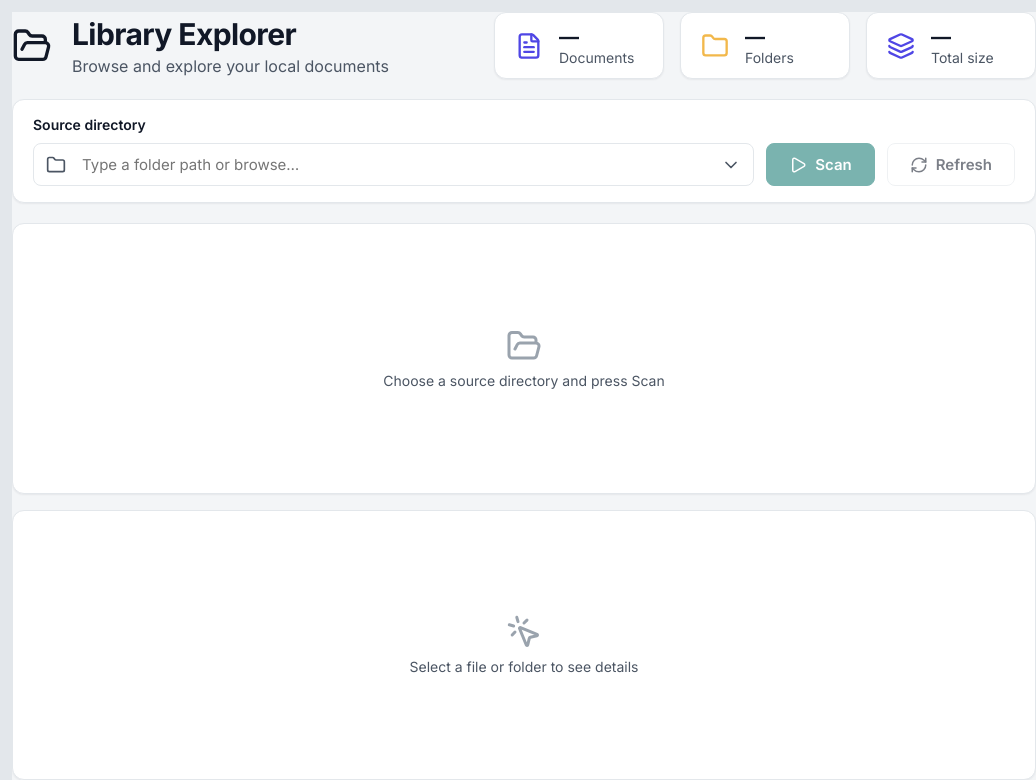
Scenario: LibraryPage search › clears the search
Type "C:/Docs/Knowledge" into the field labelled "Source directory" at (394, 164), box top-left (78, 144), bottom-right (709, 185)
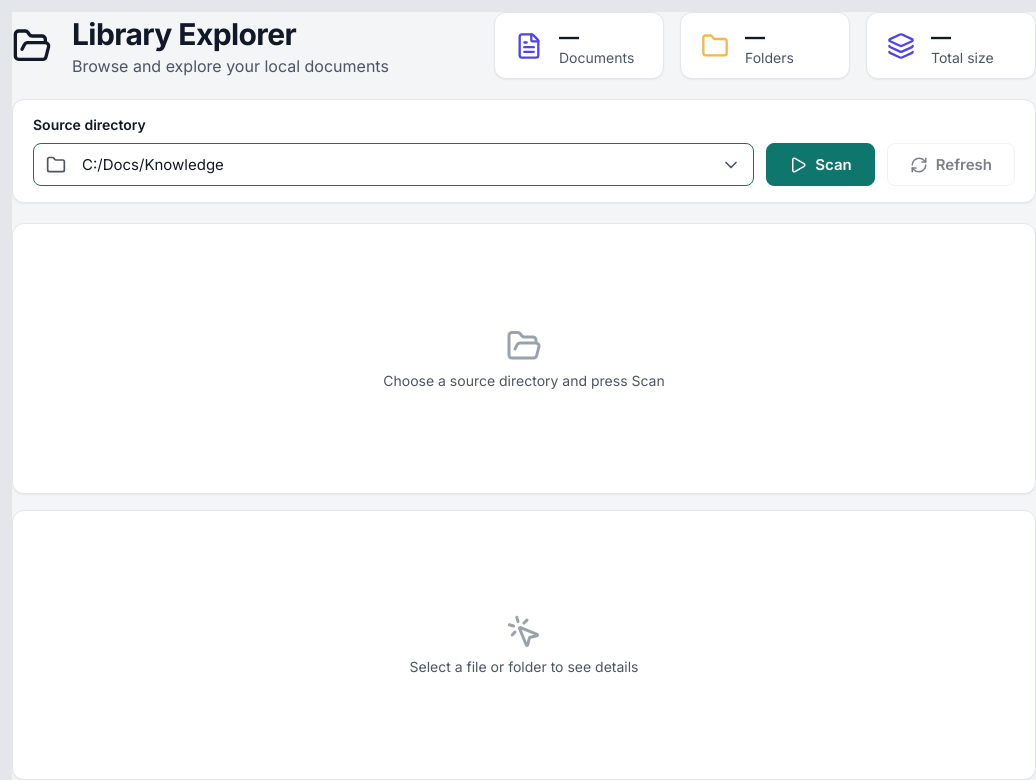
Click the button "Scan" at (820, 164), box top-left (766, 143), bottom-right (875, 186)
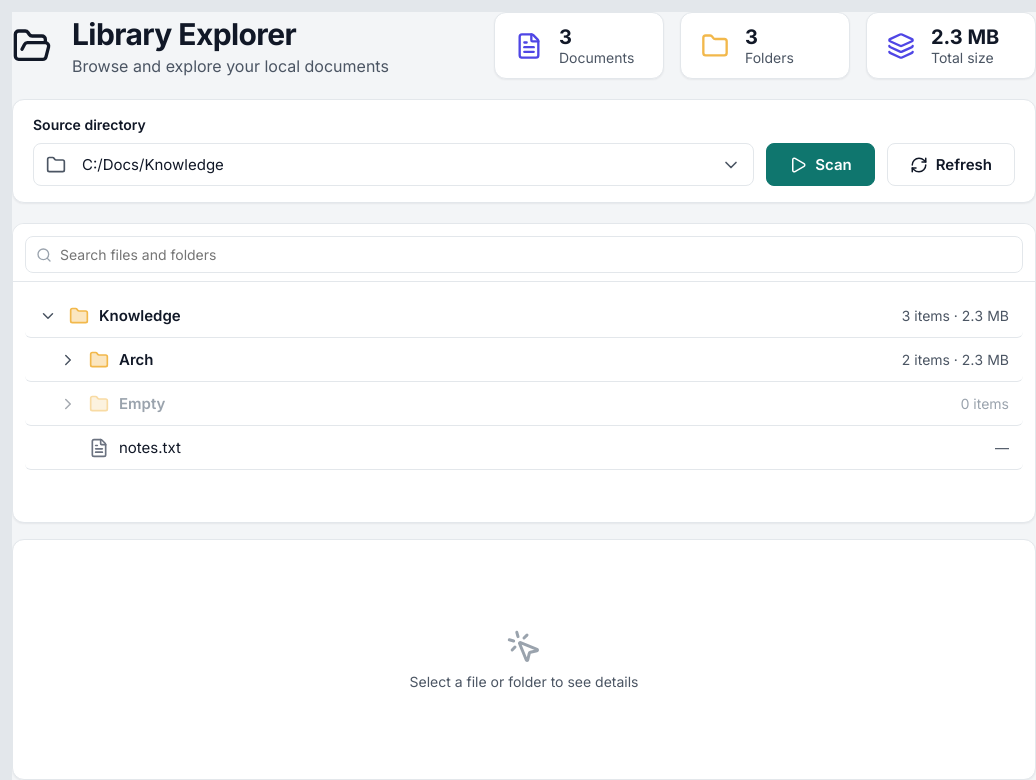
Check: the list item "Arch 2 items · 2.3 MB" is shown, box top-left (25, 338), bottom-right (1023, 382)
Type "notes" into the search field labelled "Search files and folders" at (536, 254), box top-left (60, 237), bottom-right (1012, 272)
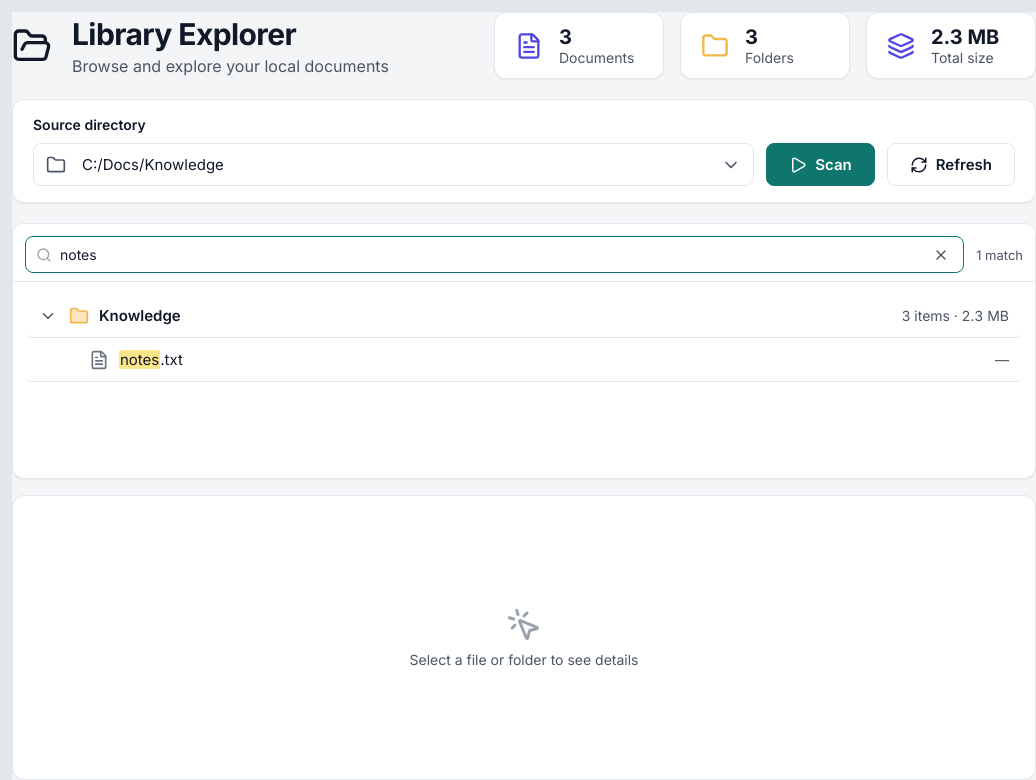
Click the button named "Clear search" at (941, 254), box top-left (929, 242), bottom-right (953, 266)
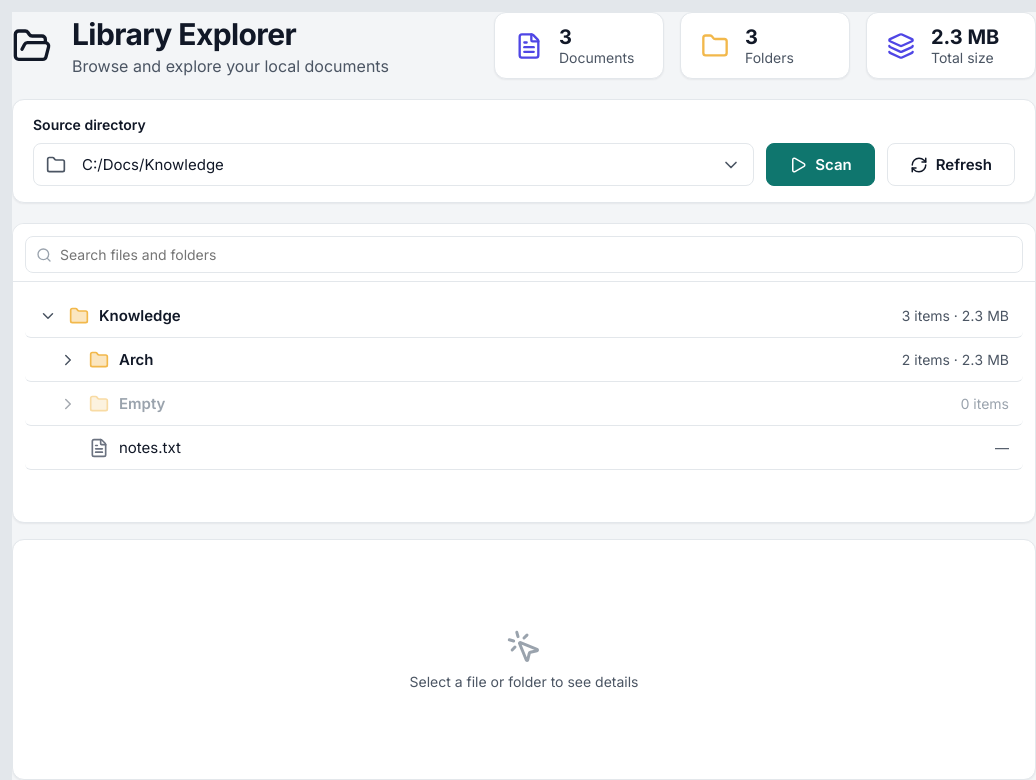
Check: the search field labelled "Search files and folders" is empty, box top-left (60, 237), bottom-right (1012, 272)
Check: the number of list items is 4, box top-left (25, 294), bottom-right (1023, 338); top-left (25, 338), bottom-right (1023, 382); top-left (25, 382), bottom-right (1023, 426); top-left (25, 426), bottom-right (1023, 470)
